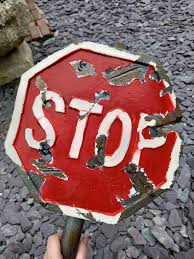Stop: (8, 34, 182, 221)
